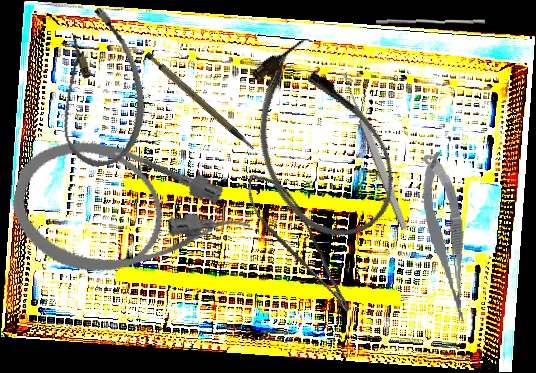Cannula: (1, 125, 261, 307), (220, 26, 417, 259), (39, 2, 157, 173)
Micro Scissor: (237, 161, 356, 328), (418, 150, 472, 326)
Pusher: (375, 16, 486, 28)
Scalpel Handle: (143, 39, 255, 166)
Surgical Spoon: (339, 71, 410, 231)
